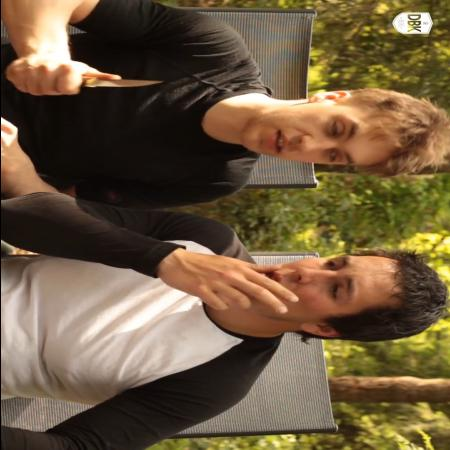long weapon: (37, 54, 170, 102)
